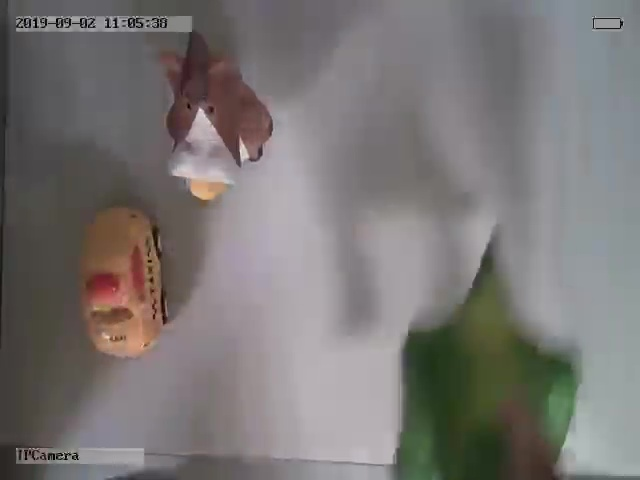car: (78, 205, 169, 360)
horse: (159, 36, 273, 202)
